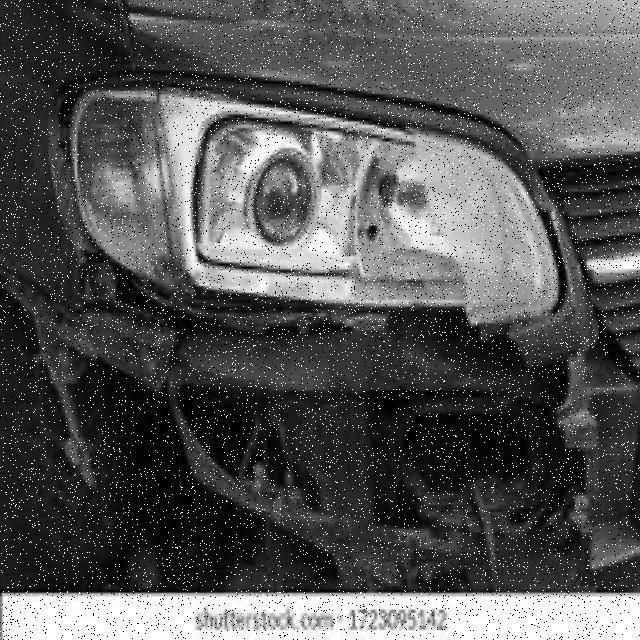Headlight-damage: (39, 85, 585, 374)
